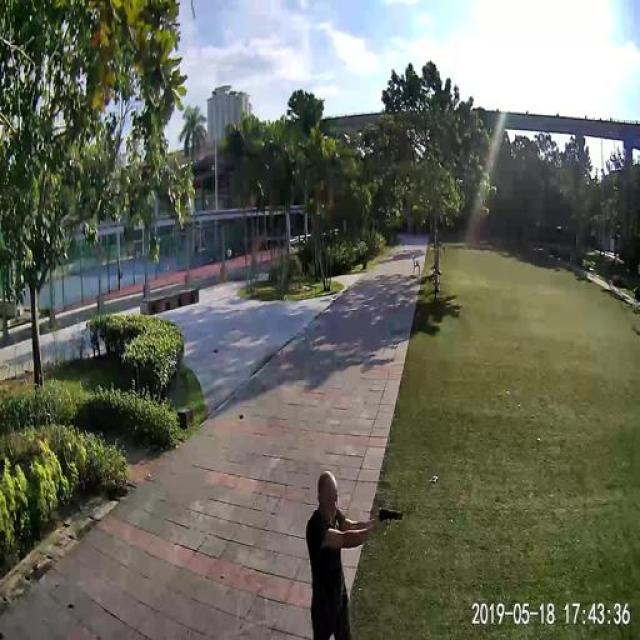Gun: (369, 500, 413, 536)
